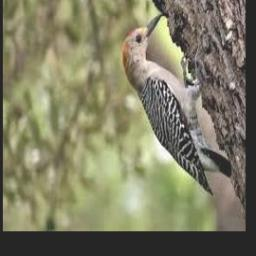Woodpecker: (122, 12, 232, 196)
